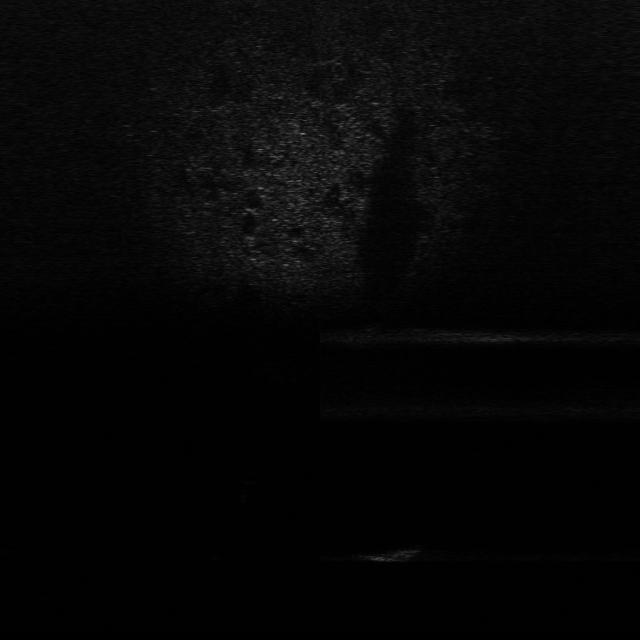metal bucket: (360, 535, 420, 565)
